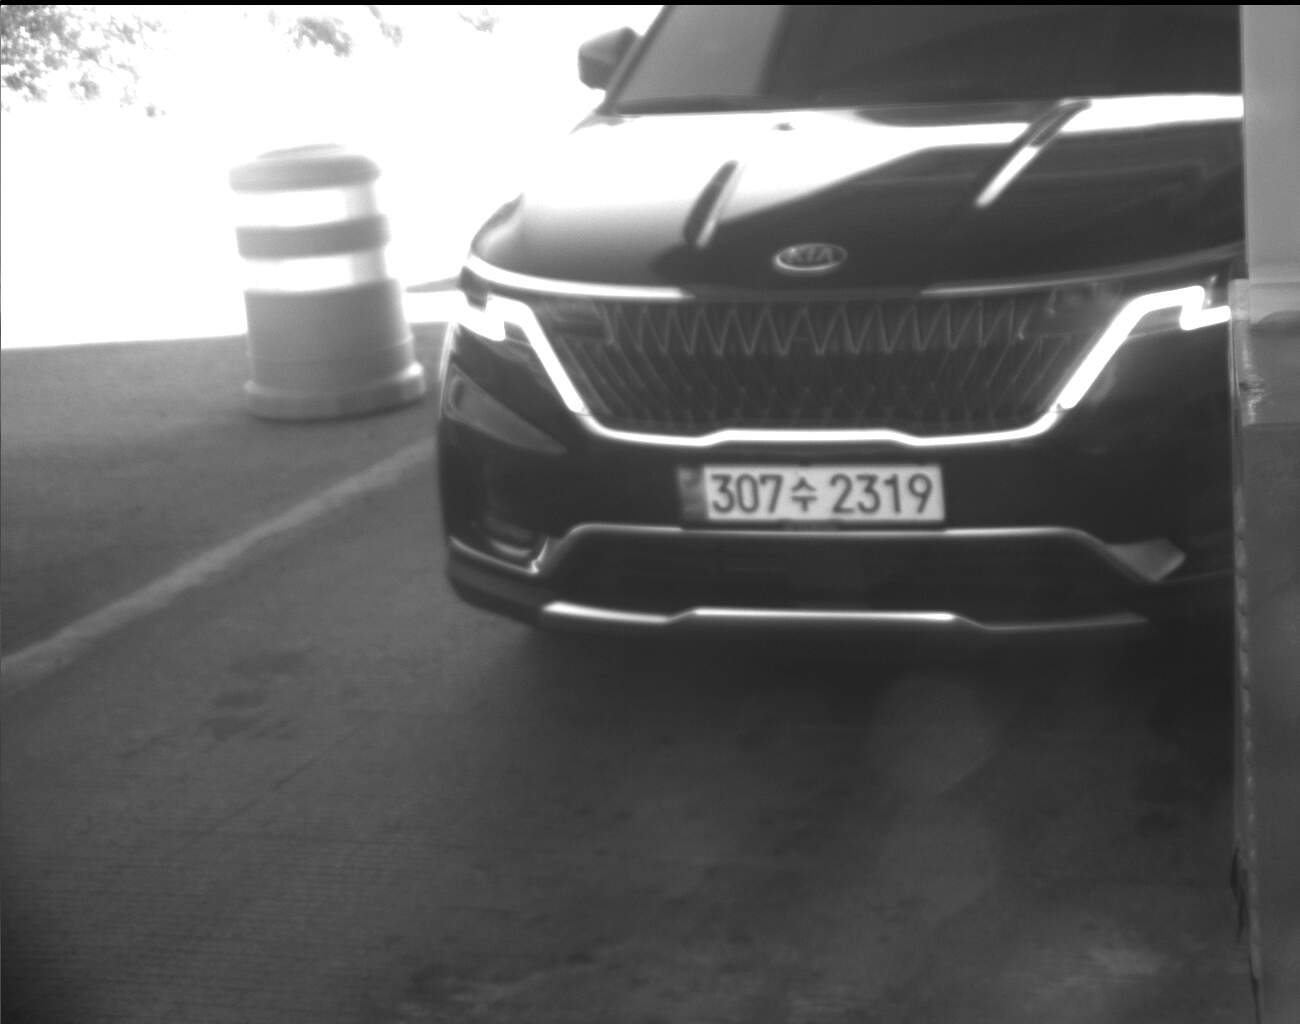car: (432, 6, 1236, 655)
plate: (670, 458, 947, 527)
